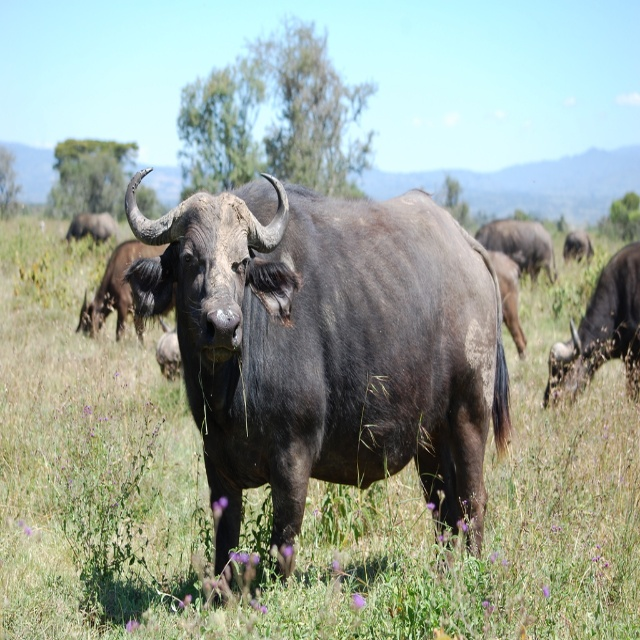Cattle: (65, 166, 640, 608)
